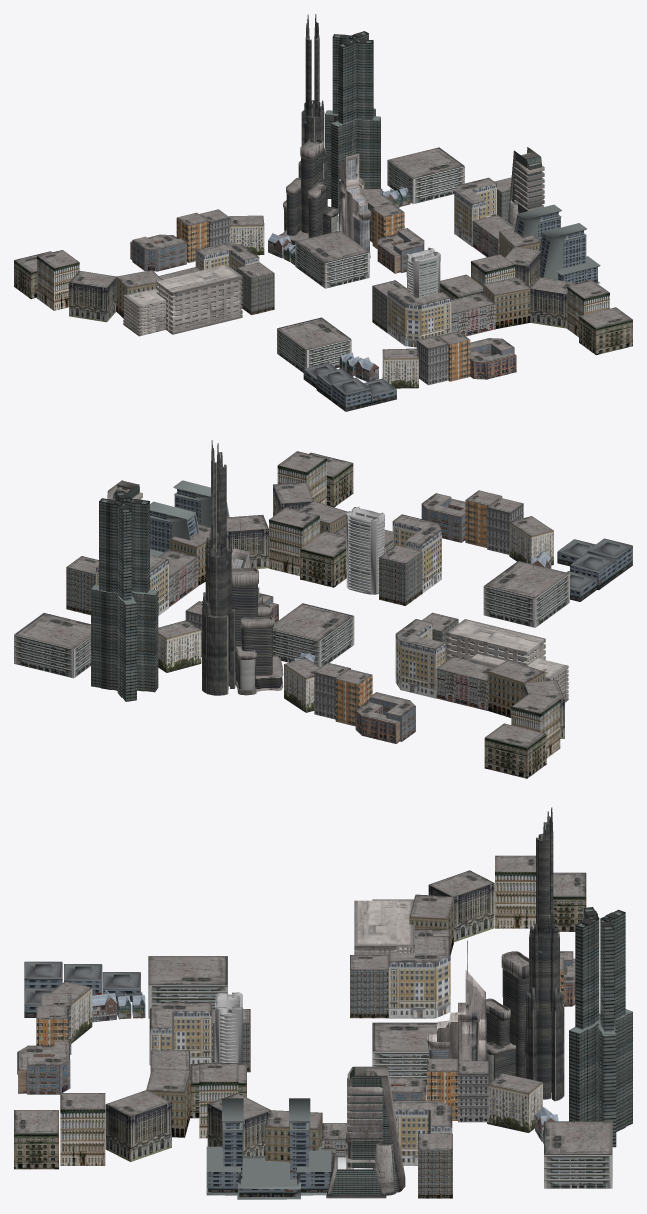
The model's file is city2.fbx.
3 views of the same model, one above another, from view 1: azimuth 30°, elevation 25°; view 2: azimuth 150°, elevation 25°; view 3: azimuth 270°, elevation 25° (orthographic). The views are drawn at different scales.
Visible parts, largest first — view 1: The_City:mesh01, The_City:bldgs2; view 2: The_City:mesh01, The_City:bldgs2; view 3: The_City:mesh01, The_City:bldgs2.
Part boxes in pixels (x1,y1,x2,y2): The_City:mesh01: [14, 147, 632, 388]; The_City:bldgs2: [123, 14, 600, 411]; The_City:mesh01: [14, 451, 569, 778]; The_City:bldgs2: [91, 440, 632, 702]; The_City:mesh01: [14, 855, 612, 1198]; The_City:bldgs2: [24, 807, 632, 1199].
Size of the model in its own units: 274 by 125 by 246.
Materials: 2 (2 with a texture image).
